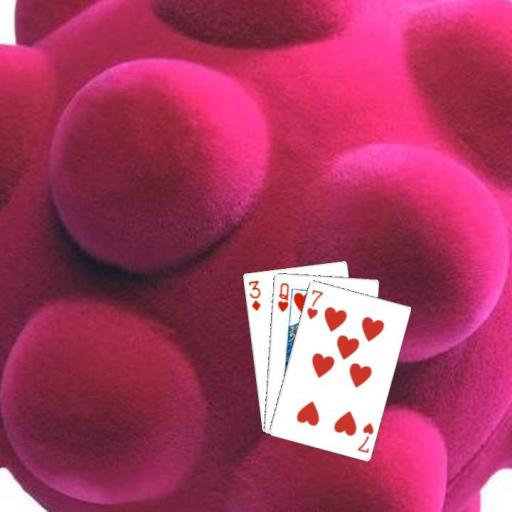3D: (245, 277, 262, 312)
7H: (354, 420, 375, 455), (304, 286, 324, 321)
QH: (275, 279, 290, 313)
